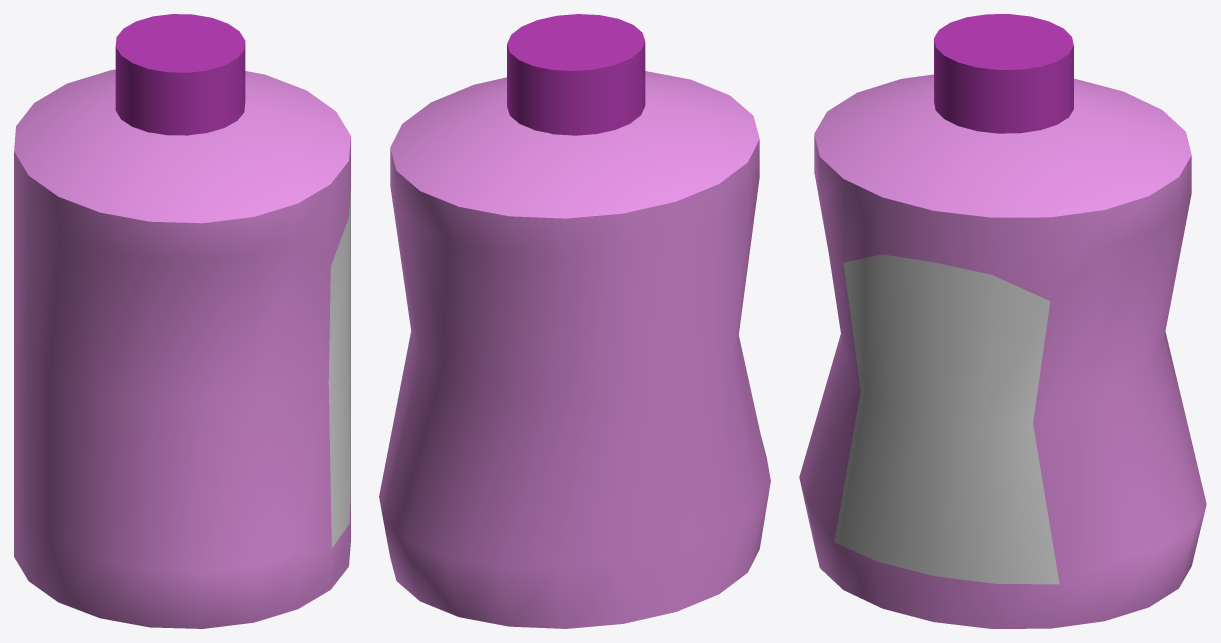
File: Product1.fbx
3 views of the same model, side by side, from view 1: azimuth 30°, elevation 25°; view 2: azimuth 150°, elevation 25°; view 3: azimuth 270°, elevation 25° (orthographic).
Visible parts, largest first — view 1: pCylinder4; view 2: pCylinder4; view 3: pCylinder4.
Part boxes in pixels (left/top/right/bottom): pCylinder4: left=14, top=14, right=350, bottom=628; pCylinder4: left=379, top=14, right=770, bottom=628; pCylinder4: left=799, top=14, right=1206, bottom=628.
Size of the model in its own units: 0.1426 by 0.2282 by 0.1643.
